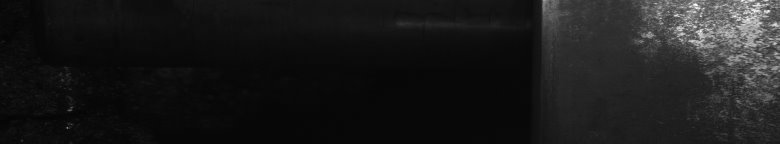kb: (720, 4, 776, 117)
